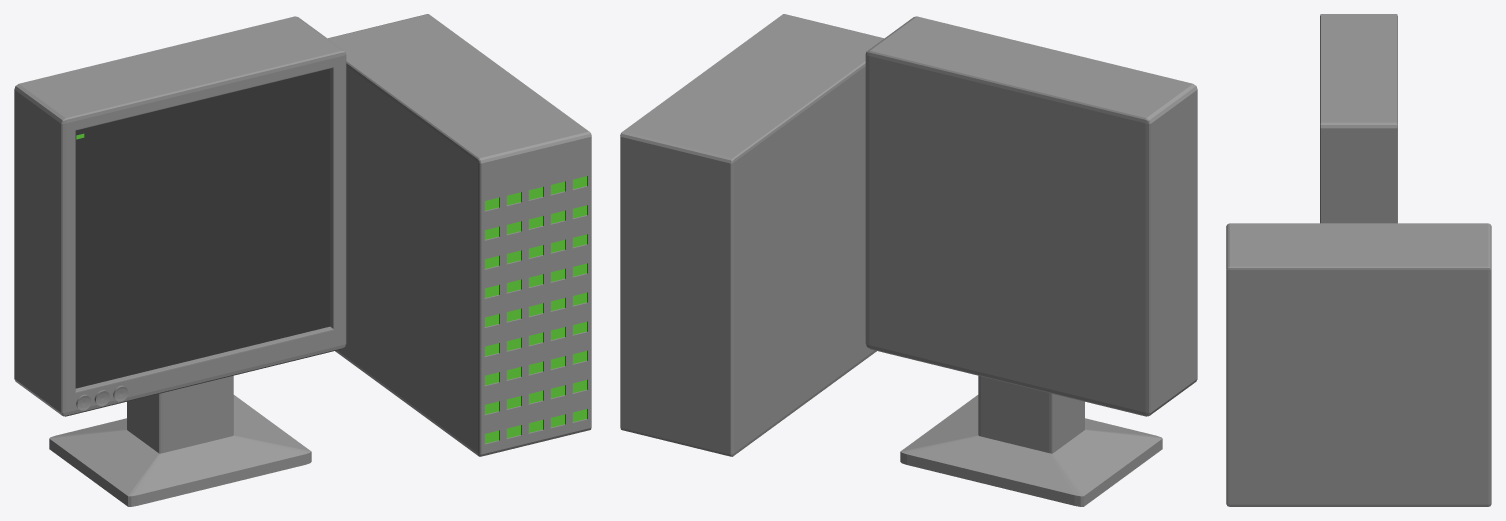
The picture shows the model from 3 angles, left to right: view 1: azimuth 30°, elevation 25°; view 2: azimuth 150°, elevation 25°; view 3: azimuth 270°, elevation 25°; orthographic projection. The views are drawn at different scales.
Visible parts, largest first — view 1: Cylinder, Cube.001; view 2: Cylinder, Cube.001; view 3: Cube.001, Cylinder.
Part boxes in pixels (x1=…): Cylinder: x1=14, y1=16, x2=346, y2=506; Cube.001: x1=328, y1=14, x2=591, y2=456; Cylinder: x1=865, y1=16, x2=1197, y2=506; Cube.001: x1=620, y1=14, x2=883, y2=456; Cube.001: x1=1226, y1=223, x2=1491, y2=506; Cylinder: x1=1320, y1=14, x2=1397, y2=223.
Bounding box in the file's own units: 331 × 260 × 200.
